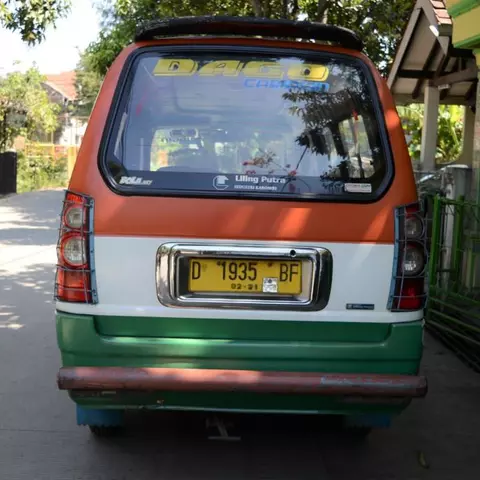plate: (189, 256, 302, 296)
